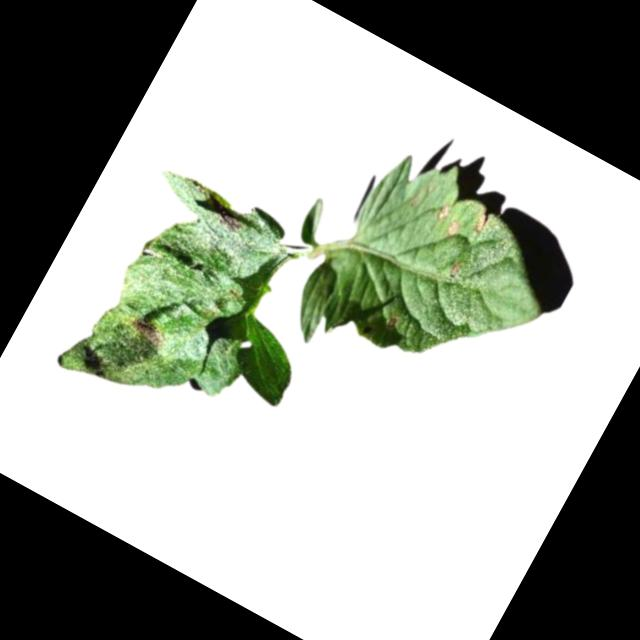Early_blight: (118, 310, 169, 352), (469, 209, 494, 238), (213, 211, 242, 235), (431, 199, 454, 224), (442, 217, 464, 241), (445, 261, 464, 281)
